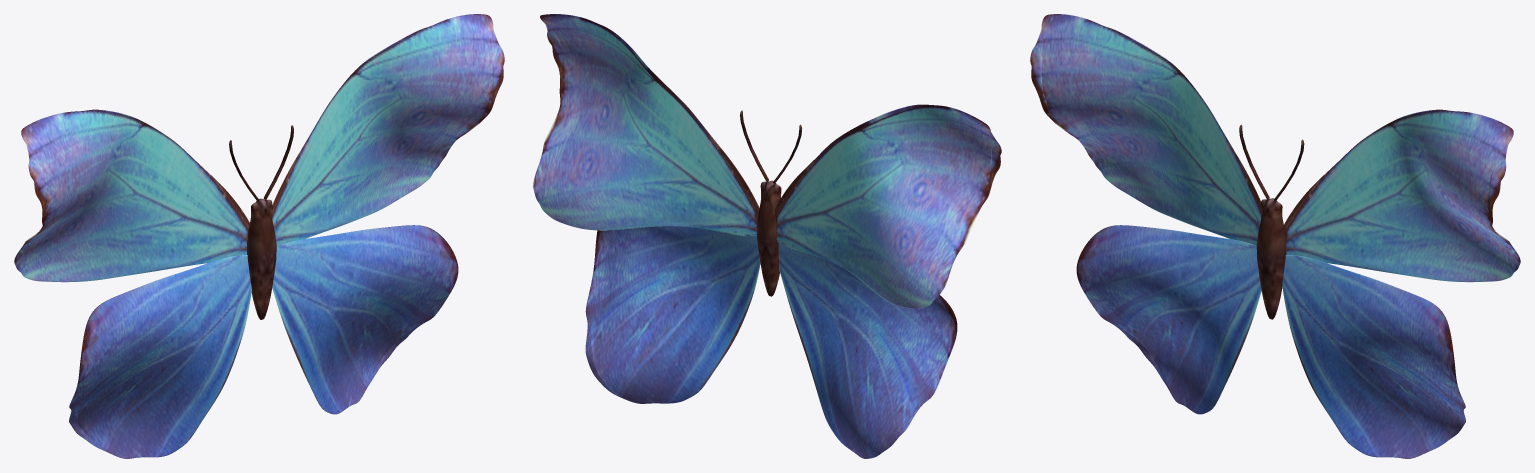
The model's file is butterfly4.glb.
3 views of the same model, side by side, from view 1: azimuth 30°, elevation 25°; view 2: azimuth 150°, elevation 25°; view 3: azimuth 330°, elevation 25° (orthographic). The views are drawn at different scales.
Parts seen in each view (by area): view 1: Vert, Cube; view 2: Vert, Cube; view 3: Vert, Cube.
Part boxes in pixels (x1,y1,x2,y2): Vert: (14, 14, 504, 458); Cube: (229, 125, 293, 319); Vert: (533, 14, 1001, 458); Cube: (740, 110, 801, 296); Vert: (1030, 14, 1520, 458); Cube: (1239, 124, 1304, 319).
Bounding box in the file's own units: 4.57 × 3.46 × 0.7193.
Materials: 1 (1 with a texture image).
